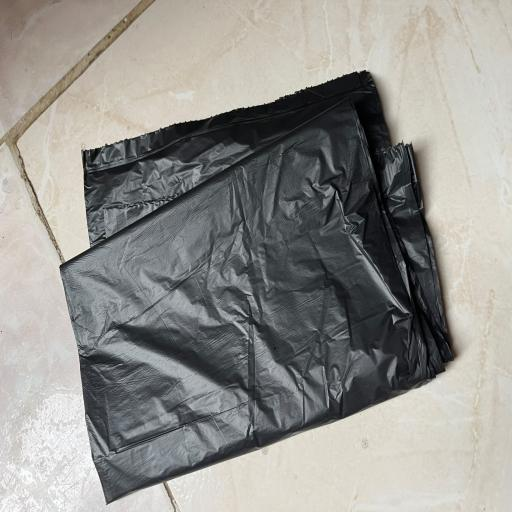LDPE: (50, 108, 473, 512)
